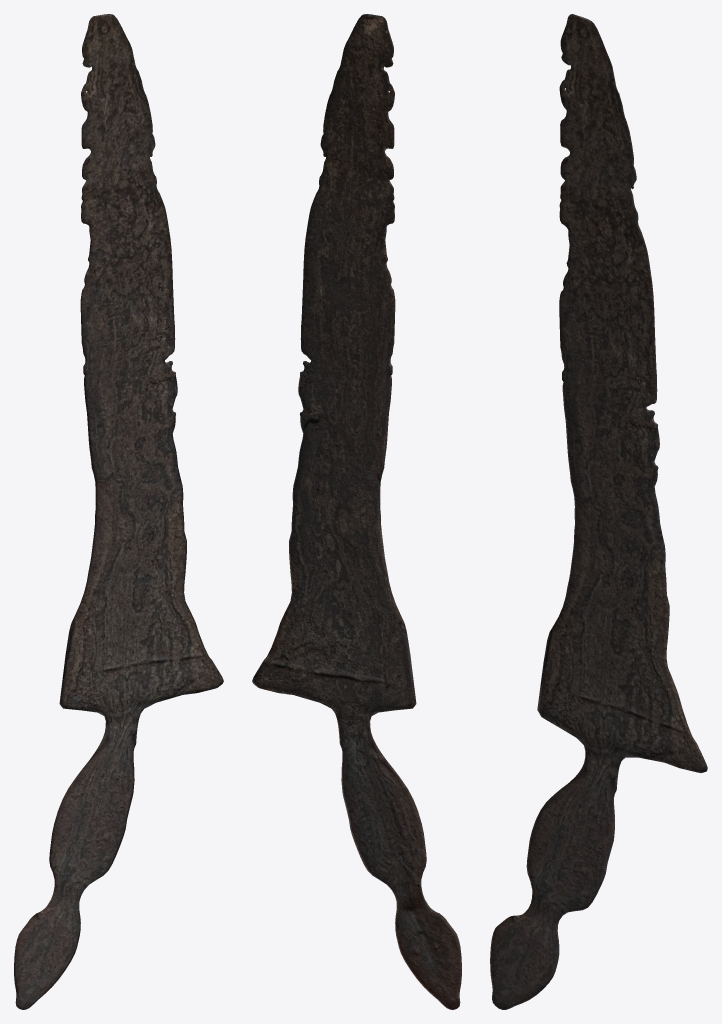
File: mkn05_low.glb
3 renders of one model, left to right at view 1: azimuth 30°, elevation 25°; view 2: azimuth 150°, elevation 25°; view 3: azimuth 330°, elevation 25°, orthographic. The views are drawn at different scales.
Parts seen in each view (by area): view 1: mkn05_Sajen; view 2: mkn05_Sajen; view 3: mkn05_Sajen.
Part boxes in pixels (x1,y1,x2,y2): mkn05_Sajen: (14, 14, 223, 1009); mkn05_Sajen: (252, 14, 461, 1009); mkn05_Sajen: (490, 14, 707, 1009).
Bounding box in the file's own units: 0.4917 × 2.19 × 0.0195.
Materials: 1 (1 with a texture image).
